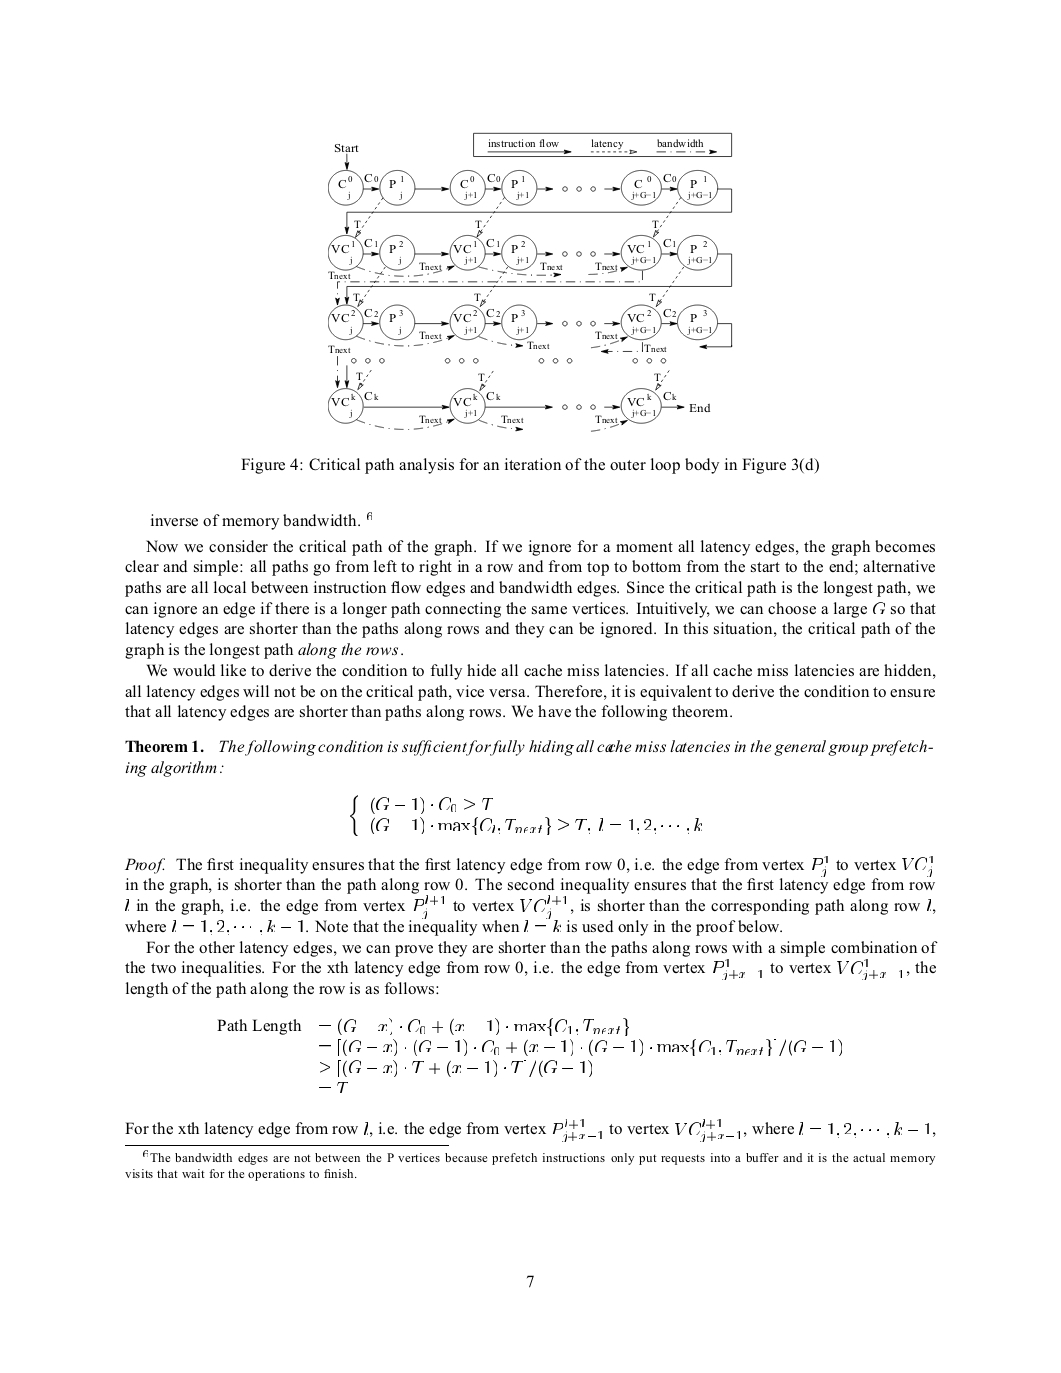figure: (328, 132, 732, 432)
formula: (217, 1017, 841, 1092), (350, 793, 701, 836)
